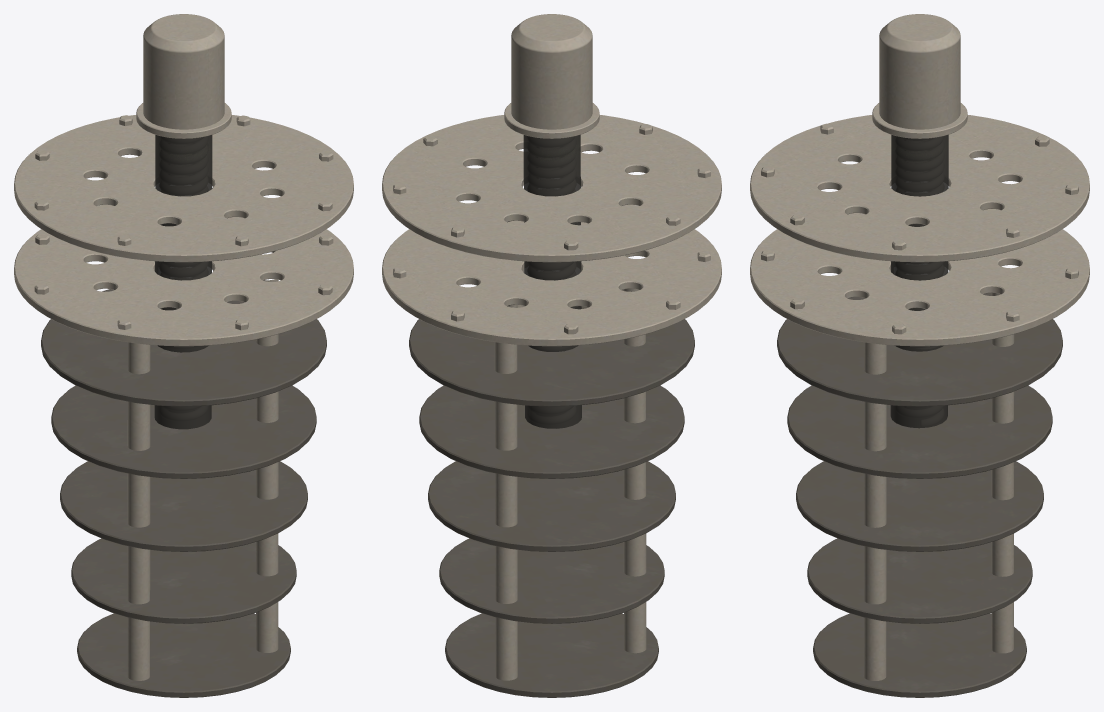
The picture shows the model from 3 angles, left to right: view 1: azimuth 30°, elevation 25°; view 2: azimuth 150°, elevation 25°; view 3: azimuth 270°, elevation 25°; orthographic projection.
Visible parts, largest first — view 1: Chandelier_01_6, Chandelier_011_4, Chandelier_0112_5; view 2: Chandelier_01_6, Chandelier_011_4, Chandelier_0112_5; view 3: Chandelier_01_6, Chandelier_011_4, Chandelier_0112_5.
Boxes of the visible parts, x1,y1,x2,y2 form: Chandelier_01_6: (14, 14, 353, 680); Chandelier_011_4: (41, 289, 326, 697); Chandelier_0112_5: (154, 135, 212, 429); Chandelier_01_6: (382, 14, 721, 680); Chandelier_011_4: (409, 290, 694, 697); Chandelier_0112_5: (523, 135, 581, 428); Chandelier_01_6: (750, 14, 1089, 680); Chandelier_011_4: (777, 293, 1062, 697); Chandelier_0112_5: (890, 135, 948, 428).
Bounding box in the file's own units: 0.6 × 1.22 × 0.6.
Materials: 3 (3 with a texture image).
